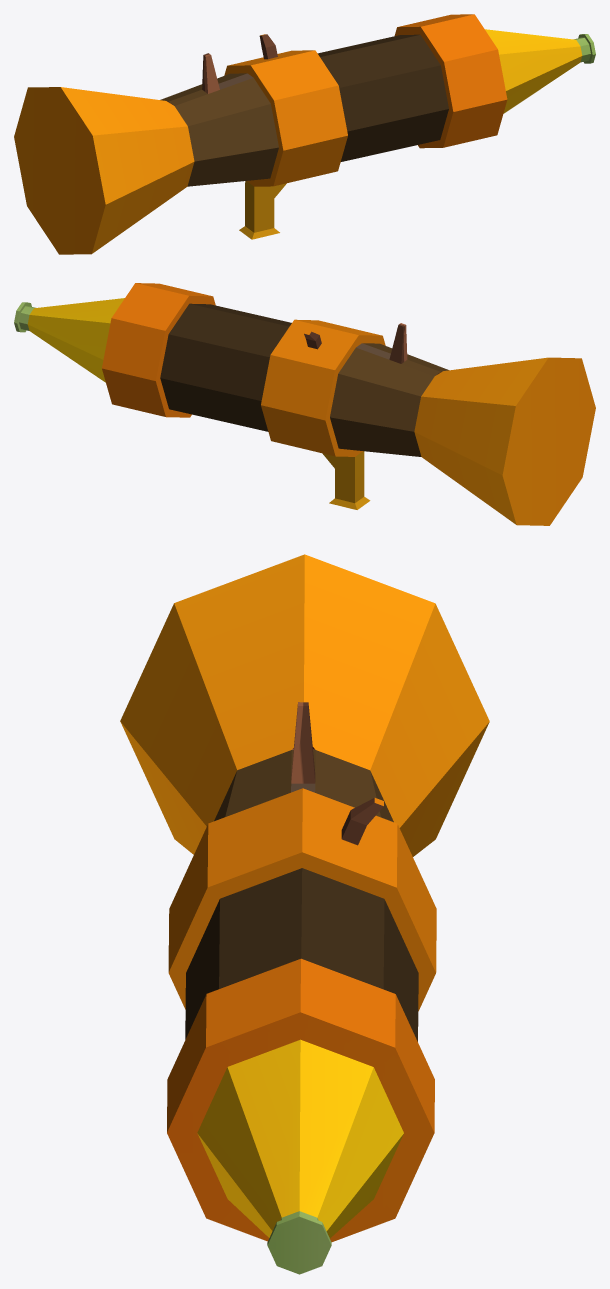
File: DIGGER BOMB (2).fbx
The picture shows the model from 3 angles, top to bottom: view 1: azimuth 30°, elevation 25°; view 2: azimuth 150°, elevation 25°; view 3: azimuth 270°, elevation 25°; orthographic projection. The views are drawn at different scales.
Parts seen in each view (by area): view 1: Cylinder.005; view 2: Cylinder.005; view 3: Cylinder.005.
Part boxes in pixels (x1,y1,x2,y2): Cylinder.005: (14,14,595,254); Cylinder.005: (14,283,595,525); Cylinder.005: (120,554,489,1274).
Size of the model in its own units: 102 by 35.66 by 30.98.
Materials: 1 (1 with a texture image).
